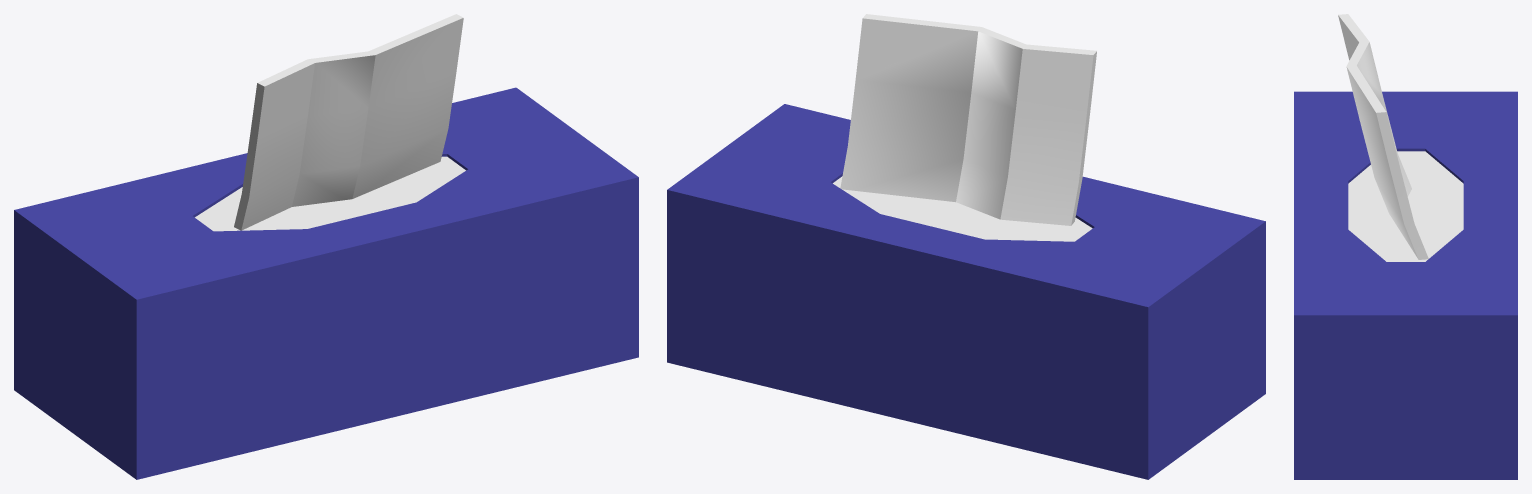
The model's file is tissue_box.glb.
The picture shows the model from 3 angles, left to right: view 1: azimuth 30°, elevation 25°; view 2: azimuth 150°, elevation 25°; view 3: azimuth 270°, elevation 25°; orthographic projection. The views are drawn at different scales.
Parts seen in each view (by area): view 1: pCube2_lambert2_0; view 2: pCube2_lambert2_0; view 3: pCube2_lambert2_0.
Part boxes in pixels (x1=…): pCube2_lambert2_0: x1=14, y1=14, x2=638, y2=479; pCube2_lambert2_0: x1=667, y1=14, x2=1265, y2=479; pCube2_lambert2_0: x1=1294, y1=14, x2=1517, y2=479.
Size of the model in its own units: 0.24 by 0.1546 by 0.1015.
